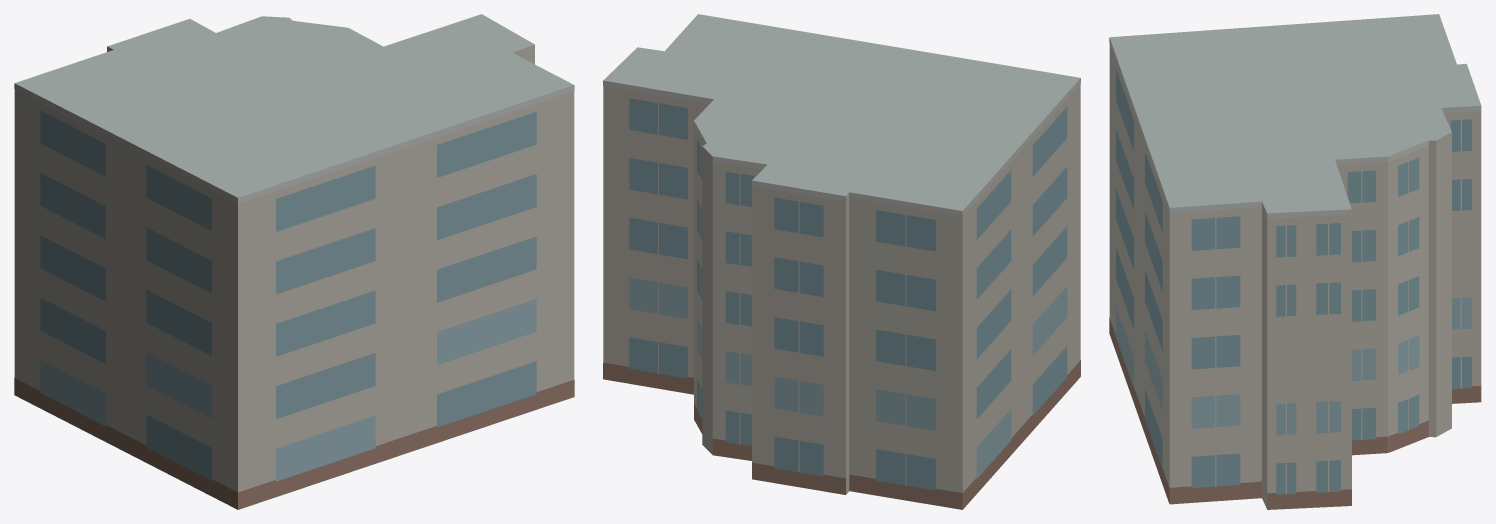
Rendered from survey-upis-32719010.glb.
The picture shows the model from 3 angles, left to right: view 1: azimuth 30°, elevation 25°; view 2: azimuth 150°, elevation 25°; view 3: azimuth 270°, elevation 25°; orthographic projection. The views are drawn at different scales.
Visible parts, largest first — view 1: survey-upis-32719010.tmp; view 2: survey-upis-32719010.tmp; view 3: survey-upis-32719010.tmp.
Boxes of the visible parts, x1,y1,x2,y2 form: survey-upis-32719010.tmp: (14, 14, 574, 509); survey-upis-32719010.tmp: (603, 14, 1080, 509); survey-upis-32719010.tmp: (1109, 14, 1481, 509).
Size of the model in its own units: 19.05 by 13.2 by 15.02.
